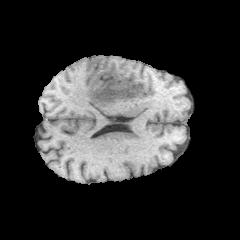glioma: (86, 82, 145, 107)
